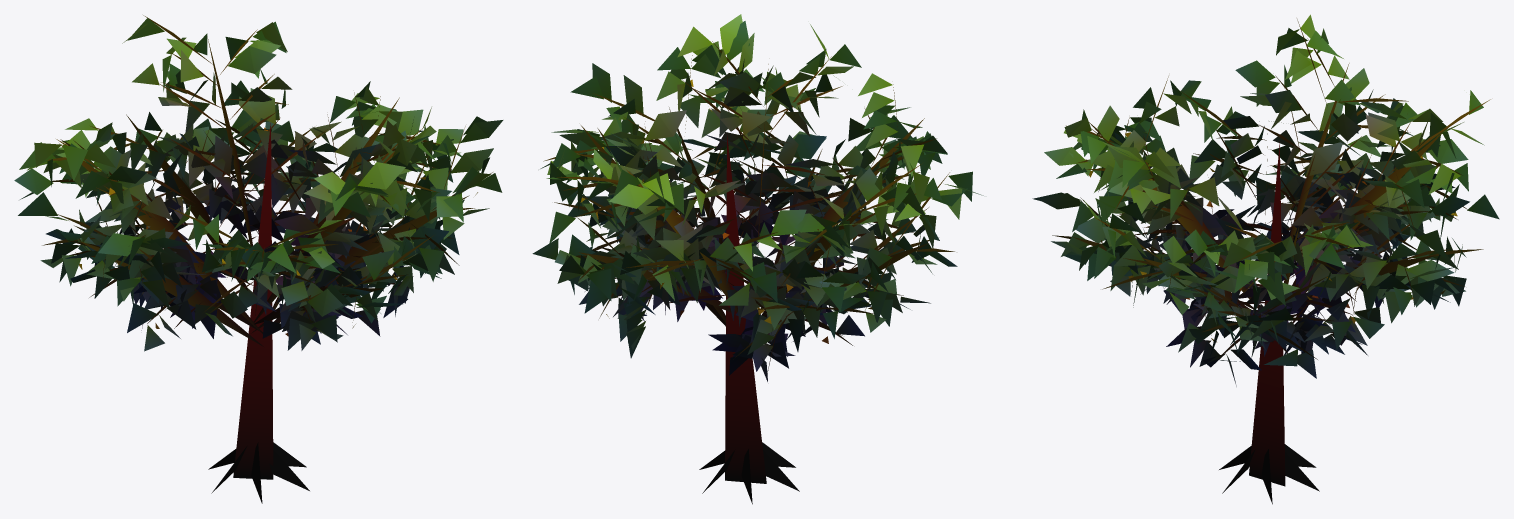
Rendered from Tree_Citrico_LOD1.fbx.
3 renders of one model, left to right at view 1: azimuth 30°, elevation 25°; view 2: azimuth 150°, elevation 25°; view 3: azimuth 270°, elevation 25°, orthographic.
Parts seen in each view (by area): view 1: Tree_Citrico_LOD1; view 2: Tree_Citrico_LOD1; view 3: Tree_Citrico_LOD1.
Boxes of the visible parts, x1,y1,x2,y2 form: Tree_Citrico_LOD1: (14,15,503,503); Tree_Citrico_LOD1: (532,14,983,504); Tree_Citrico_LOD1: (1032,14,1499,504).
Size of the model in its own units: 9.78 by 8.56 by 9.69.
